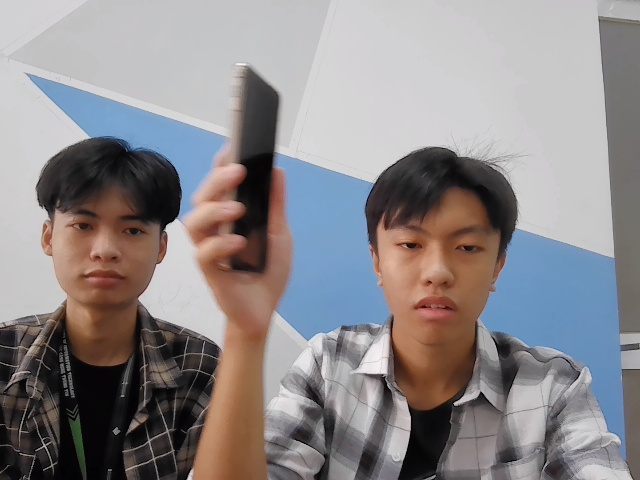human: (355, 137, 521, 335), (37, 132, 176, 305)
phone: (205, 54, 301, 294)
